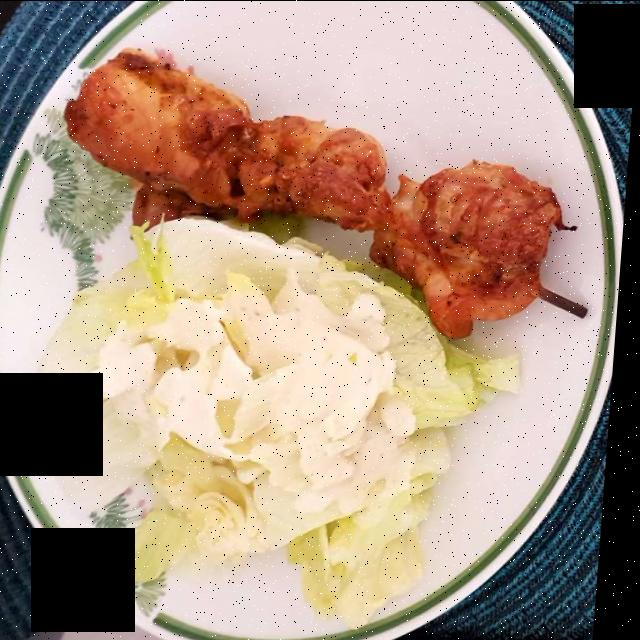french-salad-dressing: (109, 286, 407, 518)
salad-leaf-salad-green: (56, 230, 505, 603)
